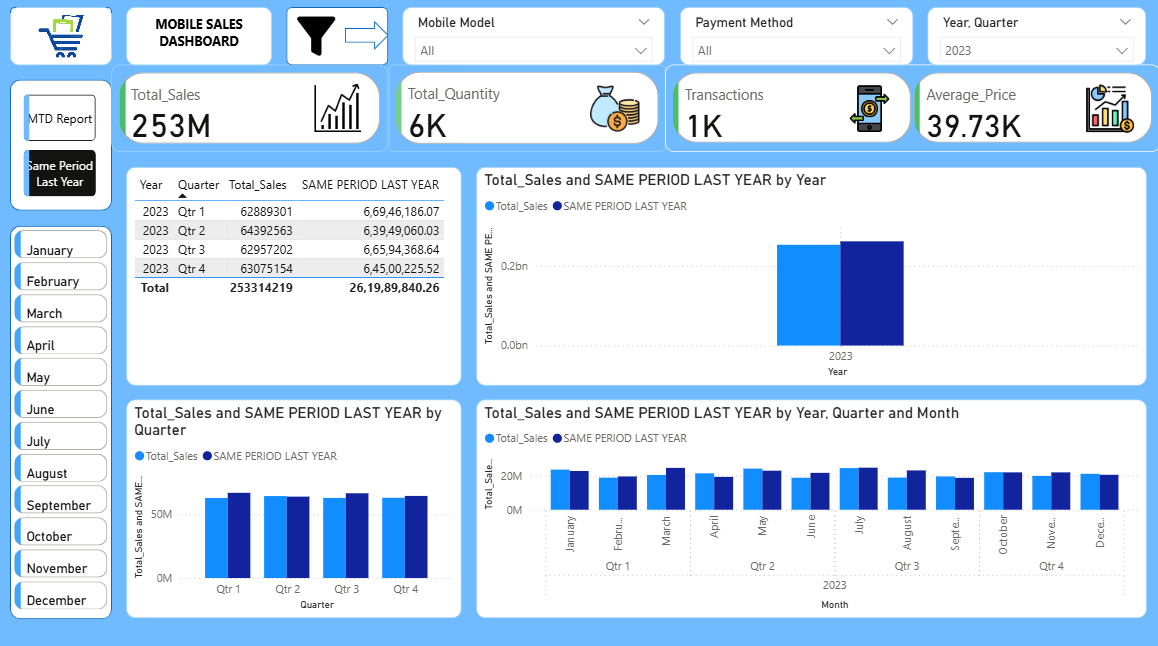

This screenshot's page, from the dashboard's own definition file:
{"tool":"powerbi","page":{"name":"Same Period Last Year","canvas":[1280,720],"ordinal":2},"visuals":[{"type":"shape","box":[16,16,112,48],"z":0},{"type":"shape","box":[16,96,112,144],"z":1000},{"type":"cardVisual","fields":{"Data":["Mobile_Sales_Data.Total_Sales"]},"box":[128,80,304,96],"z":2000},{"type":"cardVisual","fields":{"Data":["Mobile_Sales_Data.Total_Quantity"]},"box":[432,80,304,96],"z":3000},{"type":"cardVisual","fields":{"Data":["Mobile_Sales_Data.Transactions","Mobile_Sales_Data.Average_Price"]},"box":[736,80,544,96],"z":4000},{"type":"slicer","fields":{"Values":["Mobile_Sales_Data.Mobile Model"]},"box":[448,16,288,64],"z":5000},{"type":"slicer","fields":{"Values":["Mobile_Sales_Data.Payment Method"]},"box":[752,16,256,64],"z":6000},{"type":"slicer","fields":{"Values":["Custom_Calendar.Date.Variation.Date Hierarchy.Year","Custom_Calendar.Date.Variation.Date Hierarchy.Quarter"]},"box":[1024,16,240,64],"z":7000},{"type":"tableEx","fields":{"Values":["Custom_Calendar.Date.Variation.Date Hierarchy.Year","Custom_Calendar.Date.Variation.Date Hierarchy.Quarter","Mobile_Sales_Data.Total_Sales","Mobile_Sales_Data.SAME PERIOD LAST YEAR"]},"box":[144,192,368,240],"z":8000},{"type":"shape","box":[16,256,112,432],"z":9000},{"type":"clusteredColumnChart","fields":{"Category":["Custom_Calendar.Date.Variation.Date Hierarchy.Year"],"Y":["Mobile_Sales_Data.Total_Sales","Mobile_Sales_Data.SAME PERIOD LAST YEAR"]},"box":[528,192,736,240],"z":10000},{"type":"clusteredColumnChart","fields":{"Y":["Mobile_Sales_Data.Total_Sales","Mobile_Sales_Data.SAME PERIOD LAST YEAR"],"Category":["Custom_Calendar.Date.Variation.Date Hierarchy.Year","Custom_Calendar.Date.Variation.Date Hierarchy.Quarter","Custom_Calendar.Date.Variation.Date Hierarchy.Month","Custom_Calendar.Date.Variation.Date Hierarchy.Day"]},"box":[528,448,736,240],"z":11000},{"type":"clusteredColumnChart","fields":{"Category":["Custom_Calendar.Date.Variation.Date Hierarchy.Year","Custom_Calendar.Date.Variation.Date Hierarchy.Quarter"],"Y":["Mobile_Sales_Data.Total_Sales","Mobile_Sales_Data.SAME PERIOD LAST YEAR"]},"box":[144,448,368,240],"z":12000},{"type":"pageNavigator","box":[32,112,80,112],"z":13000},{"type":"image","box":[16,16,112,64],"z":14000},{"type":"textbox","box":[144,16,160,64],"z":15000},{"type":"image","box":[336,96,80,64],"z":16000},{"type":"image","box":[624,96,112,64],"z":17000},{"type":"image","box":[896,96,128,64],"z":18000},{"type":"image","box":[1184,96,80,64],"z":19000},{"type":"image","box":[1184,96,80,64],"z":20000},{"type":"advancedSlicerVisual","fields":{"Values":["Custom_Calendar.Date.Variation.Date Hierarchy.Month"]},"box":[16,256,112,432],"z":21000},{"type":"shape","box":[320,16,112,64],"z":22000},{"type":"image","box":[304,16,96,64],"z":23000},{"type":"shape","box":[384,32,48,32],"z":24000}]}

Visuals, with their boxes in screenshot pixels (x1, y1, x2, y2), scaled from the page's 1280x720 canvas onto the 1158x646 screenshot:
shape: left=14, top=14, right=116, bottom=57
shape: left=14, top=86, right=116, bottom=215
cardVisual - Mobile_Sales_Data.Total_Sales: left=116, top=72, right=391, bottom=158
cardVisual - Mobile_Sales_Data.Total_Quantity: left=391, top=72, right=666, bottom=158
cardVisual - Mobile_Sales_Data.Transactions x Mobile_Sales_Data.Average_Price: left=666, top=72, right=1157, bottom=158
slicer - Mobile_Sales_Data.Mobile Model: left=405, top=14, right=666, bottom=72
slicer - Mobile_Sales_Data.Payment Method: left=680, top=14, right=912, bottom=72
slicer - Custom_Calendar.Date.Variation.Date Hierarchy.Year x Custom_Calendar.Date.Variation.Date Hierarchy.Quarter: left=926, top=14, right=1144, bottom=72
tableEx - Custom_Calendar.Date.Variation.Date Hierarchy.Year x Custom_Calendar.Date.Variation.Date Hierarchy.Quarter: left=130, top=172, right=463, bottom=388
shape: left=14, top=230, right=116, bottom=617
clusteredColumnChart - Custom_Calendar.Date.Variation.Date Hierarchy.Year x Mobile_Sales_Data.Total_Sales: left=478, top=172, right=1144, bottom=388
clusteredColumnChart - Mobile_Sales_Data.Total_Sales x Mobile_Sales_Data.SAME PERIOD LAST YEAR: left=478, top=402, right=1144, bottom=617
clusteredColumnChart - Custom_Calendar.Date.Variation.Date Hierarchy.Year x Custom_Calendar.Date.Variation.Date Hierarchy.Quarter: left=130, top=402, right=463, bottom=617
pageNavigator: left=29, top=100, right=101, bottom=201
image: left=14, top=14, right=116, bottom=72
textbox: left=130, top=14, right=275, bottom=72
image: left=304, top=86, right=376, bottom=144
image: left=565, top=86, right=666, bottom=144
image: left=811, top=86, right=926, bottom=144
image: left=1071, top=86, right=1144, bottom=144
image: left=1071, top=86, right=1144, bottom=144
advancedSlicerVisual - Custom_Calendar.Date.Variation.Date Hierarchy.Month: left=14, top=230, right=116, bottom=617
shape: left=290, top=14, right=391, bottom=72
image: left=275, top=14, right=362, bottom=72
shape: left=347, top=29, right=391, bottom=57
